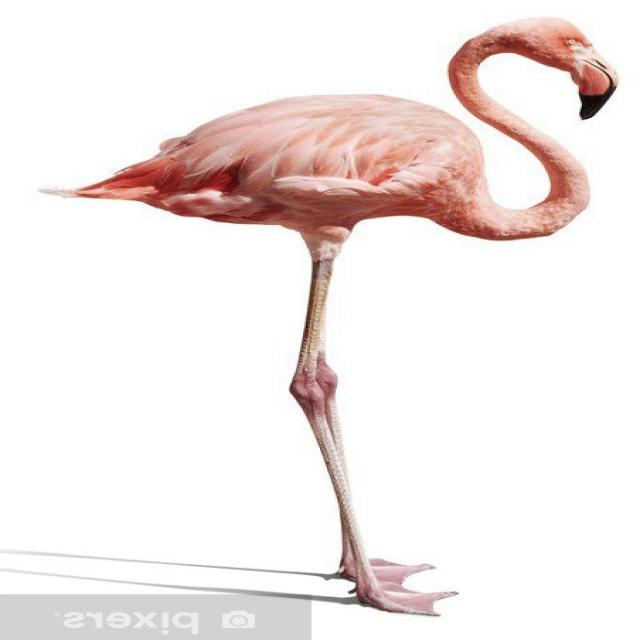flamingo: (45, 18, 616, 613)
